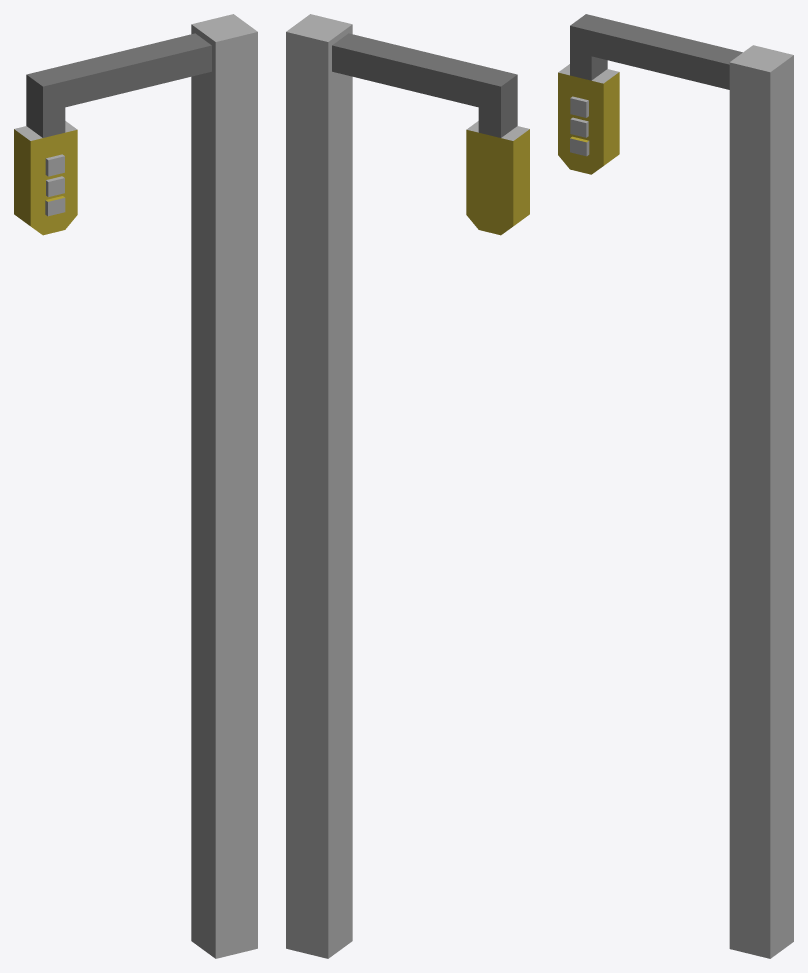
The model's file is Traffic_Light.fbx.
3 views of the same model, side by side, from view 1: azimuth 30°, elevation 25°; view 2: azimuth 150°, elevation 25°; view 3: azimuth 330°, elevation 25° (orthographic). The views are drawn at different scales.
Visible parts, largest first — view 1: pCube16; view 2: pCube16; view 3: pCube16.
Part boxes in pixels (x1,y1,x2,y2): pCube16: (14,14,257,958); pCube16: (286,14,529,958); pCube16: (558,14,793,958).
Bounding box in the file's own units: 1.59 × 6.22 × 0.3.
